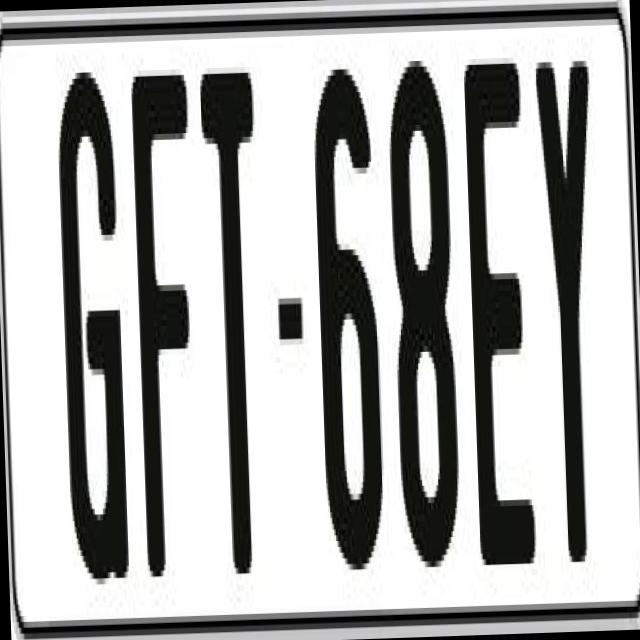6: (306, 68, 382, 570)
8: (381, 48, 465, 586)
E: (460, 57, 534, 560)
F: (125, 62, 201, 594)
G: (53, 71, 135, 608)
T: (196, 60, 272, 586)
Y: (534, 49, 608, 556)
